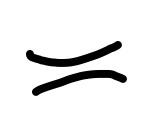eqv: (24, 38, 128, 96)
